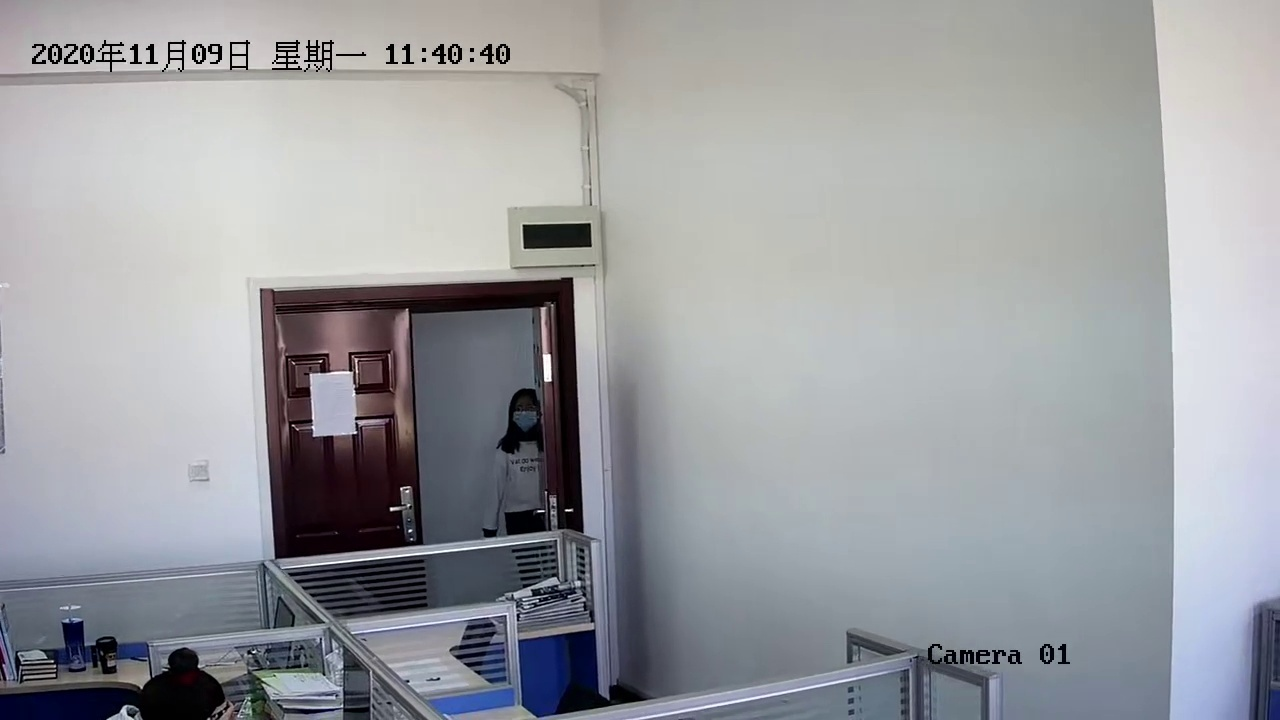mask: (500, 382, 548, 440)
